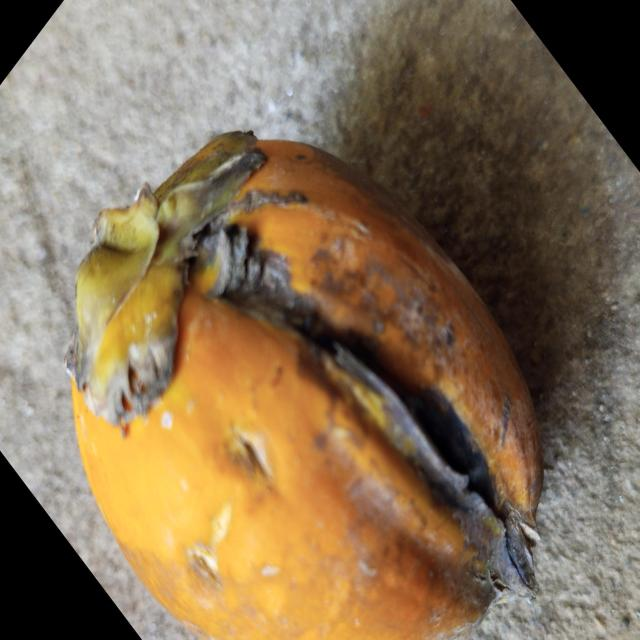damaged: (66, 131, 544, 640)
